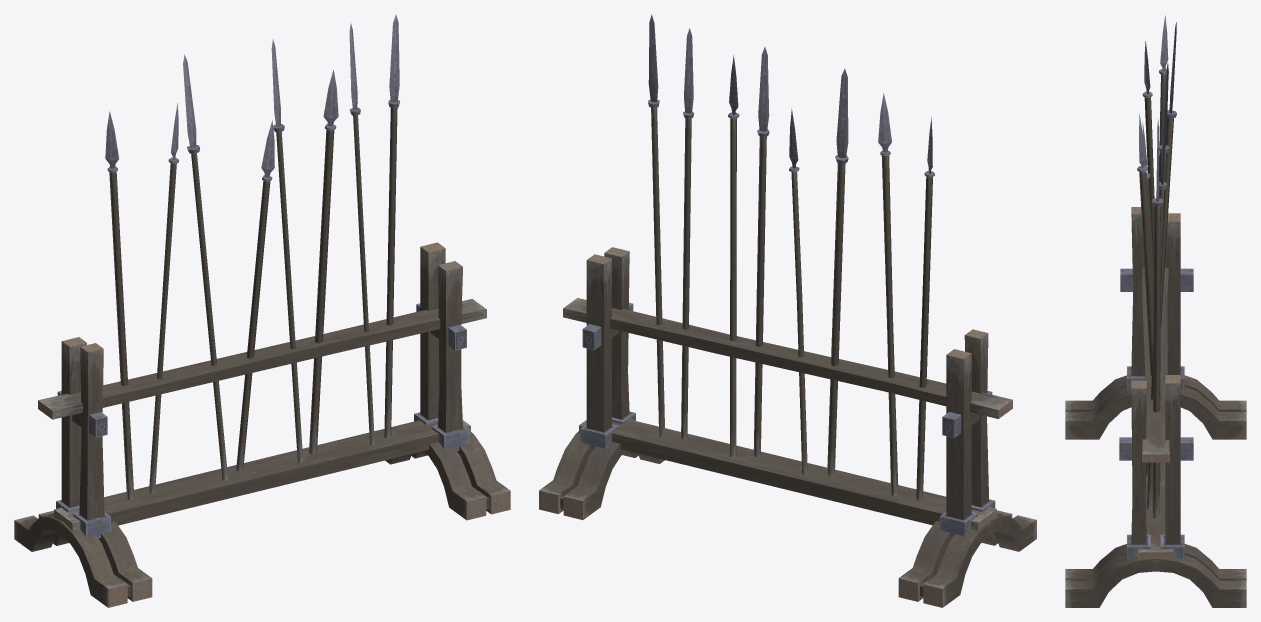
Rendered from Homeworld_Exterior_Dq_Decoration_Weaponrack_01_Lod0.fbx.
3 renders of one model, left to right at view 1: azimuth 30°, elevation 25°; view 2: azimuth 150°, elevation 25°; view 3: azimuth 270°, elevation 25°, orthographic. The views are drawn at different scales.
Visible parts, largest first — view 1: Area_Dq_Prop_Common_Weaponrack_01_Lod0; view 2: Area_Dq_Prop_Common_Weaponrack_01_Lod0; view 3: Area_Dq_Prop_Common_Weaponrack_01_Lod0.
Boxes of the visible parts, x1,y1,x2,y2 form: Area_Dq_Prop_Common_Weaponrack_01_Lod0: (14,14,510,607); Area_Dq_Prop_Common_Weaponrack_01_Lod0: (539,14,1036,607); Area_Dq_Prop_Common_Weaponrack_01_Lod0: (1065,15,1246,607).
Bounding box in the file's own units: 3.15 × 3.32 × 1.18.
